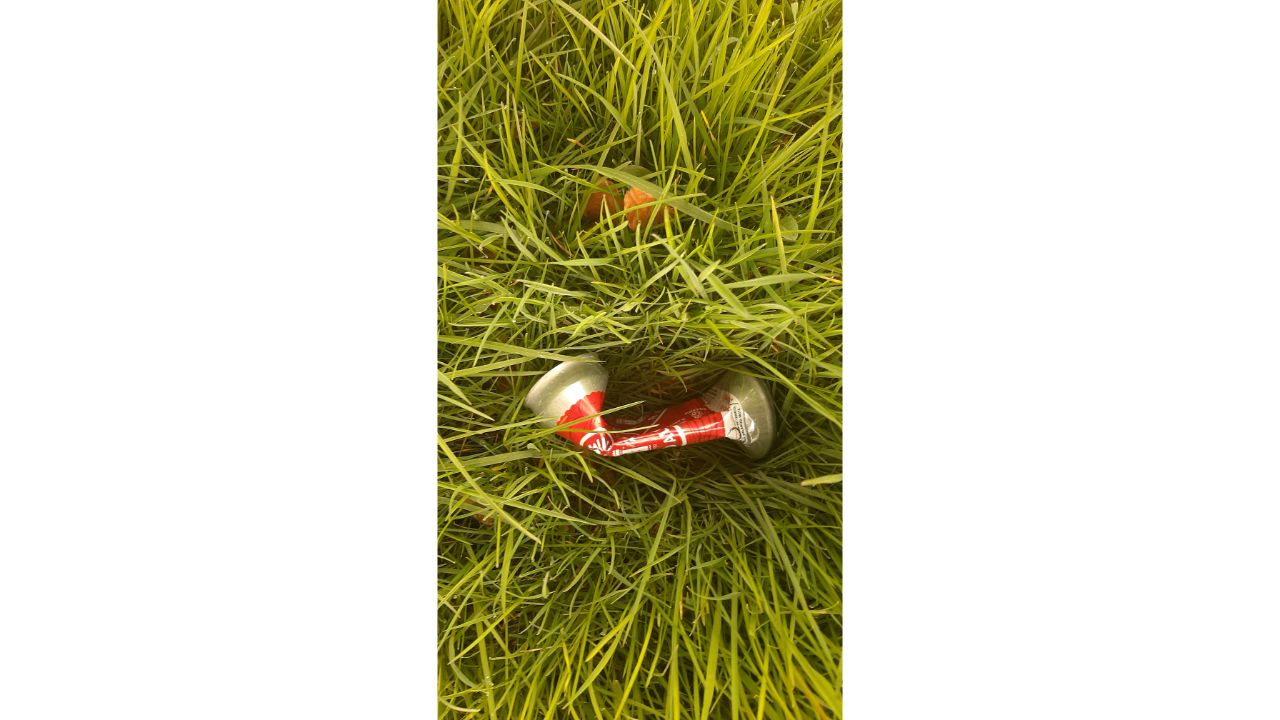Can: (512, 341, 786, 492)
